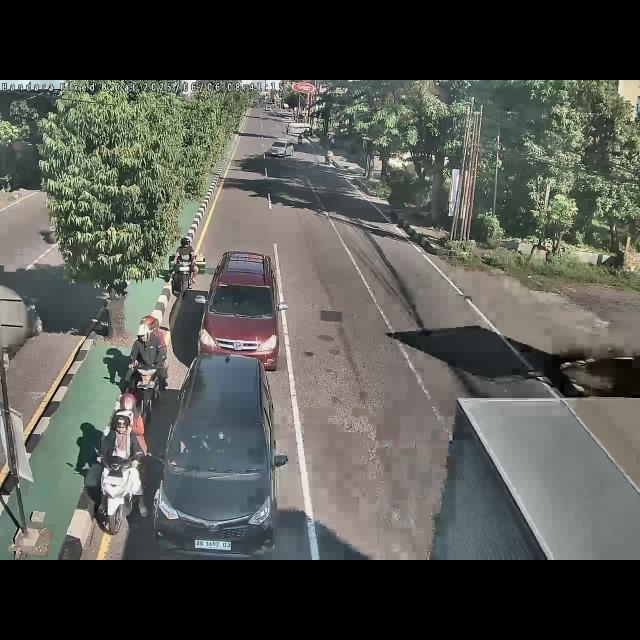Mobil: (158, 355, 280, 559), (195, 249, 282, 373)
Motor: (94, 397, 152, 525), (122, 313, 176, 419), (164, 234, 202, 298)
